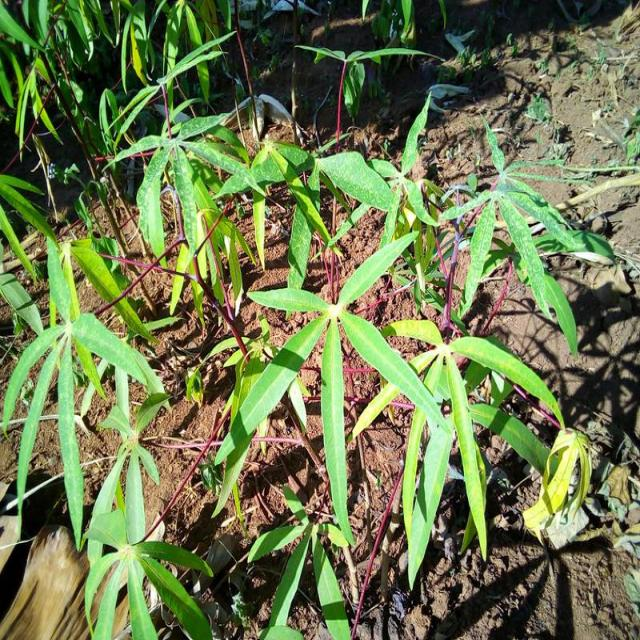cassava leaf: (210, 226, 451, 547)
